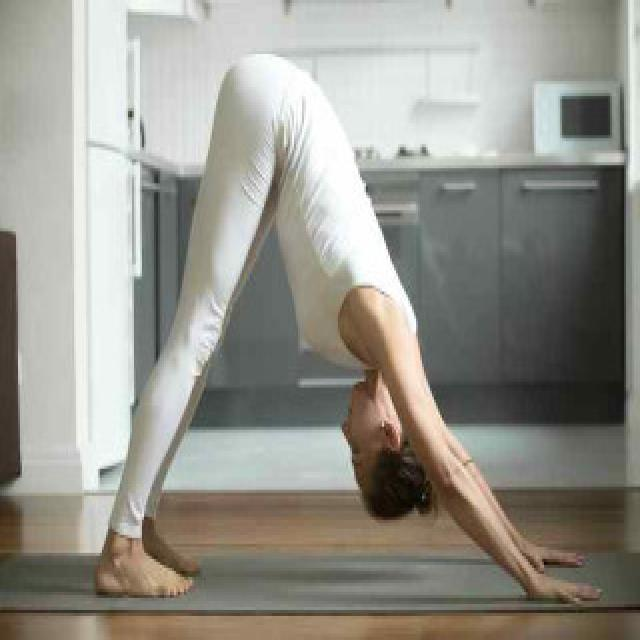yoga-pose downward: (89, 57, 595, 598)
